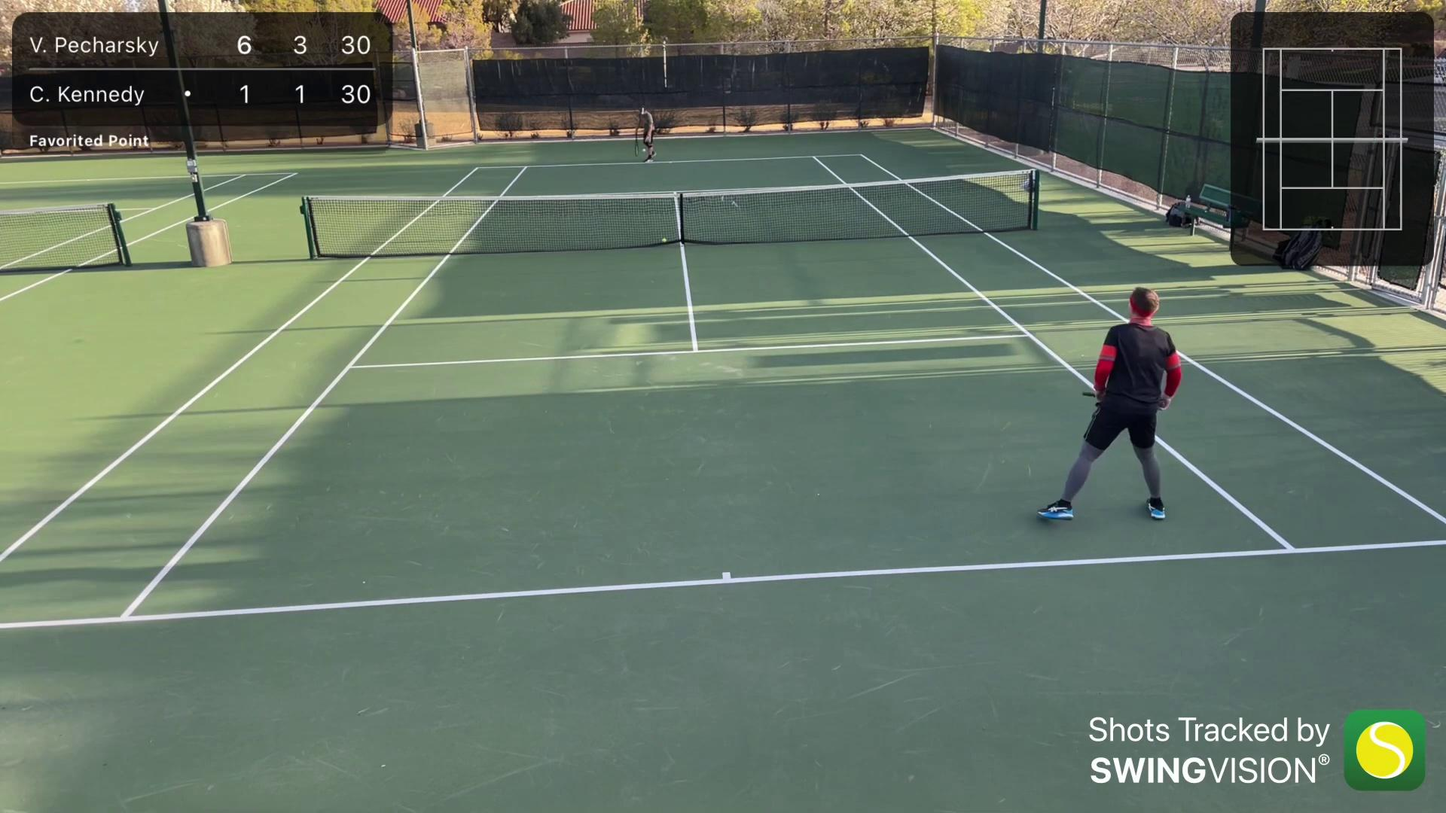ball: (641, 147, 648, 154), (660, 238, 667, 244)
